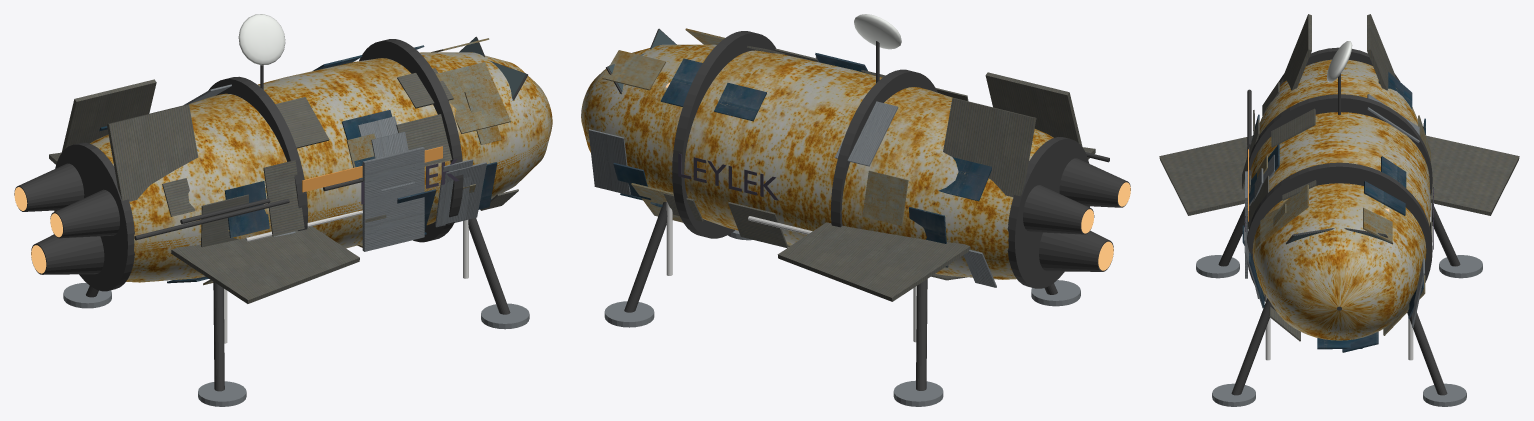
The model's file is leylek.glb.
3 renders of one model, left to right at view 1: azimuth 30°, elevation 25°; view 2: azimuth 150°, elevation 25°; view 3: azimuth 270°, elevation 25°, orthographic. The views are drawn at different scales.
Parts seen in each view (by area): view 1: static__hull, static__corr, static__darkmetal, static__plate, static__patch, static__hull2, static__m, static__orange, static__cockpitglass; view 2: static__hull, static__darkmetal, static__corr, static__plate, static__hull2, static__patch, static__m, static__paintblack; view 3: static__hull, static__corr, static__darkmetal, static__plate, static__hull2, static__patch, static__m.
Part boxes in pixels (x1,y1,x2,y2): static__hull: (90, 52, 552, 282); static__corr: (49, 68, 518, 303); static__darkmetal: (14, 36, 527, 391); static__plate: (63, 84, 529, 406); static__patch: (203, 38, 510, 285); static__hull2: (99, 45, 497, 283); static__m: (238, 14, 285, 65); static__orange: (302, 146, 442, 192); static__cockpitglass: (459, 37, 525, 98); static__hull: (581, 44, 1053, 279); static__darkmetal: (606, 28, 1130, 390); static__corr: (663, 46, 1095, 301); static__plate: (588, 56, 1080, 406); static__hull2: (613, 53, 991, 267); static__patch: (602, 28, 908, 247); static__m: (854, 14, 901, 49); static__paintblack: (678, 153, 778, 200); static__hull: (1250, 59, 1430, 340); static__corr: (1159, 14, 1519, 341); static__darkmetal: (1218, 47, 1460, 395); static__plate: (1196, 94, 1482, 406); static__hull2: (1242, 72, 1425, 352); static__patch: (1255, 115, 1430, 335); static__m: (1326, 41, 1352, 82).
Size of the model in its own units: 10.06 by 5.76 by 6.89.
Materials: 9 (9 with a texture image).
